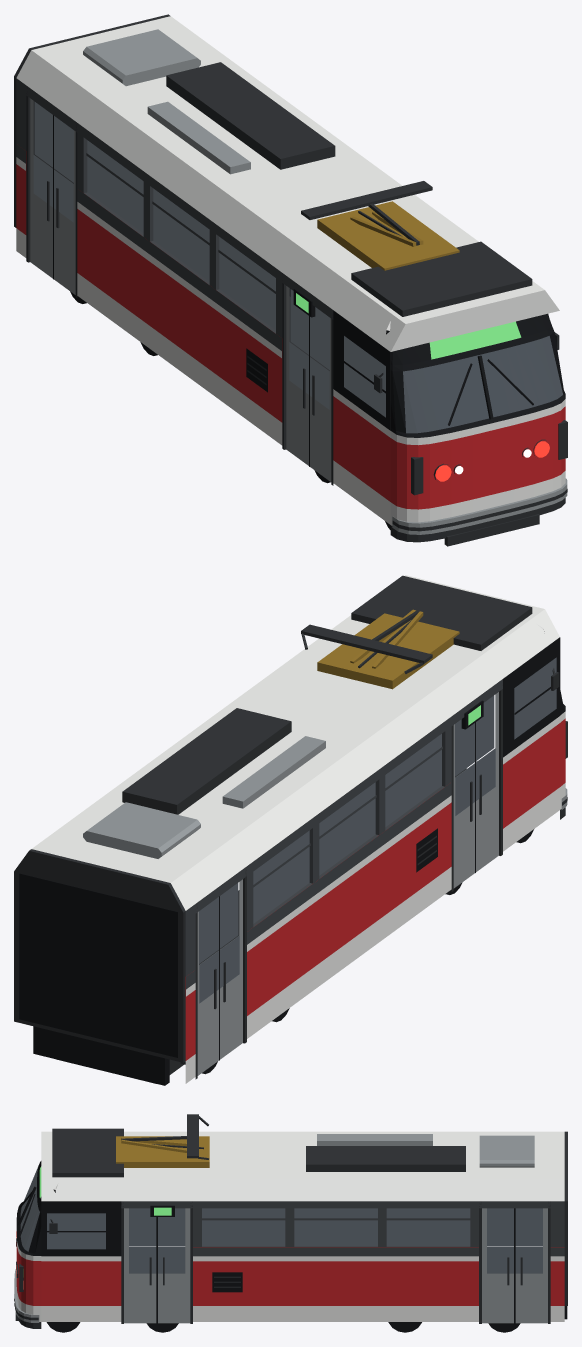
3 renders of one model, top to bottom at view 1: azimuth 30°, elevation 25°; view 2: azimuth 150°, elevation 25°; view 3: azimuth 270°, elevation 25°, orthographic. The views are drawn at different scales.
Parts seen in each view (by area): view 1: kt8d5-c; view 2: kt8d5-c; view 3: kt8d5-c.
Part boxes in pixels (x1,y1,x2,y2): kt8d5-c: [14, 14, 567, 546]; kt8d5-c: [14, 575, 567, 1085]; kt8d5-c: [14, 1114, 567, 1332].
Size of the model in its own units: 2.62 by 3.5 by 10.05.
